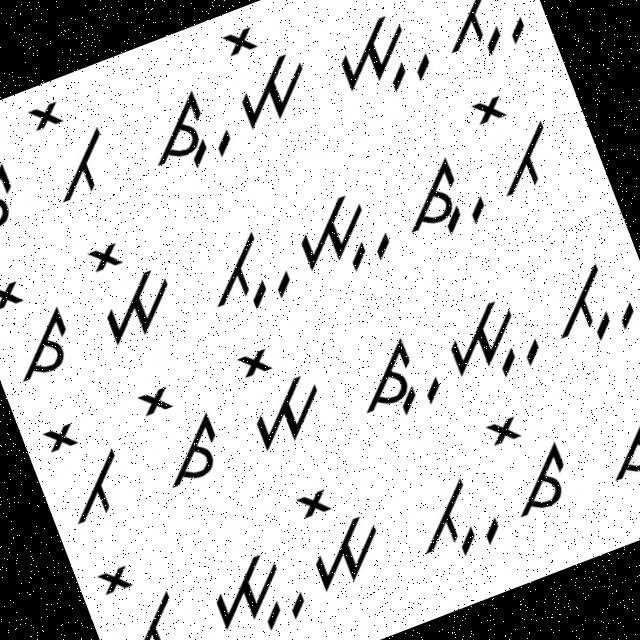bah: (184, 212, 301, 327), (528, 248, 639, 362), (400, 463, 510, 573), (422, 0, 537, 74)
bo: (26, 401, 144, 541), (461, 76, 568, 206), (22, 86, 126, 210), (84, 544, 199, 639)
cah: (330, 315, 452, 436), (130, 79, 240, 189), (388, 143, 498, 251), (586, 392, 639, 508)
co: (478, 396, 587, 530), (128, 364, 236, 498), (0, 259, 91, 393), (0, 119, 28, 247)
mah: (432, 276, 552, 402), (276, 173, 398, 291), (314, 0, 440, 114), (191, 528, 316, 639)
mo: (218, 324, 338, 461), (282, 466, 399, 602), (72, 219, 188, 353), (209, 7, 322, 133)
